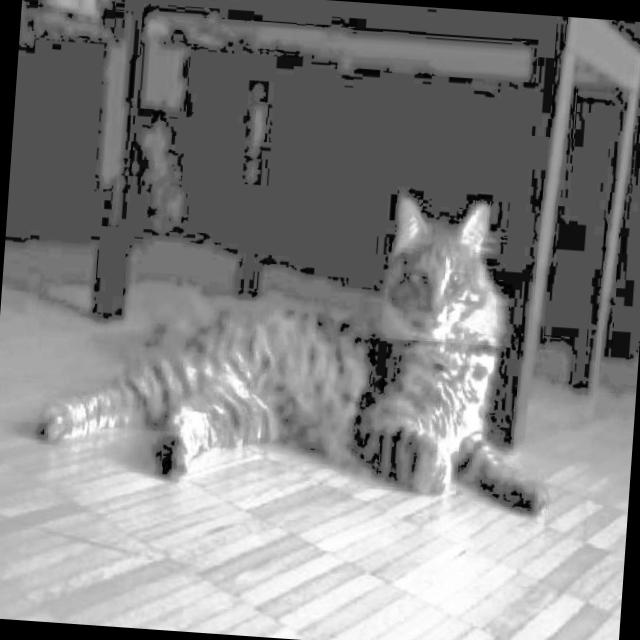Cat: (26, 146, 576, 513)
